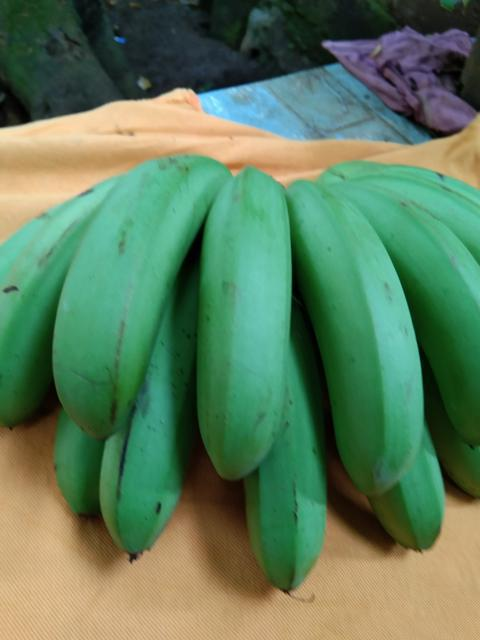freshunripe: (281, 175, 426, 501), (185, 165, 305, 494), (373, 190, 479, 429), (231, 425, 344, 594), (372, 424, 456, 552)
